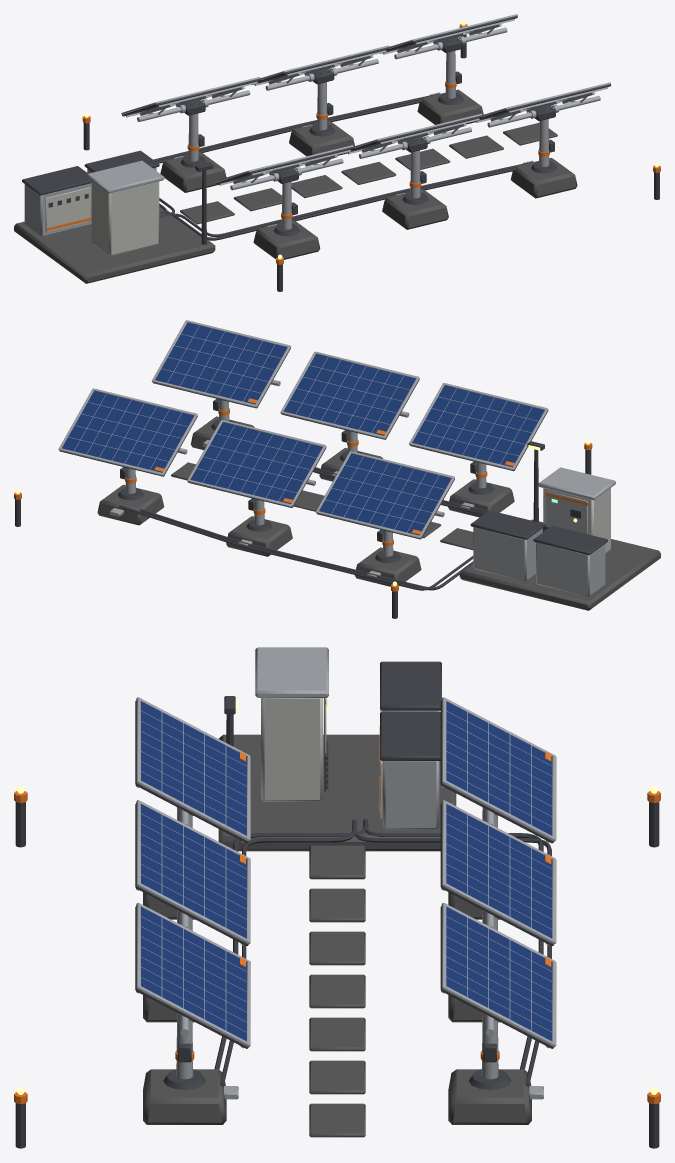
Rendered from solar_array_a.glb.
3 renders of one model, top to bottom at view 1: azimuth 30°, elevation 25°; view 2: azimuth 150°, elevation 25°; view 3: azimuth 270°, elevation 25°, orthographic. The views are drawn at different scales.
Visible parts, largest first — view 1: Array, Panel_3, Panel_0, Panel_1, Panel_2, Panel_5, Panel_4; view 2: Array, Panel_2, Panel_4, Panel_1, Panel_0, Panel_5, Panel_3; view 3: Array, Panel_2, Panel_1, Panel_0, Panel_5, Panel_3, Panel_4.
Part boxes in pixels (x1,y1,x2,y2): Array: [14, 21, 660, 291]; Panel_3: [214, 145, 353, 190]; Panel_0: [121, 77, 260, 121]; Panel_1: [251, 45, 389, 90]; Panel_2: [380, 14, 517, 59]; Panel_5: [473, 82, 611, 127]; Panel_4: [344, 113, 482, 158]; Array: [14, 398, 660, 618]; Panel_2: [58, 388, 197, 476]; Panel_4: [280, 351, 419, 439]; Panel_1: [187, 419, 326, 507]; Panel_0: [316, 451, 454, 539]; Panel_5: [152, 320, 290, 408]; Panel_3: [409, 383, 548, 471]; Array: [14, 647, 660, 1148]; Panel_2: [440, 903, 556, 1048]; Panel_1: [440, 800, 556, 945]; Panel_0: [440, 697, 556, 843]; Panel_5: [135, 902, 250, 1048]; Panel_3: [135, 697, 250, 843]; Panel_4: [135, 800, 250, 945].
Bounding box in the file's own units: 17.22 × 3.22 × 11.44.
